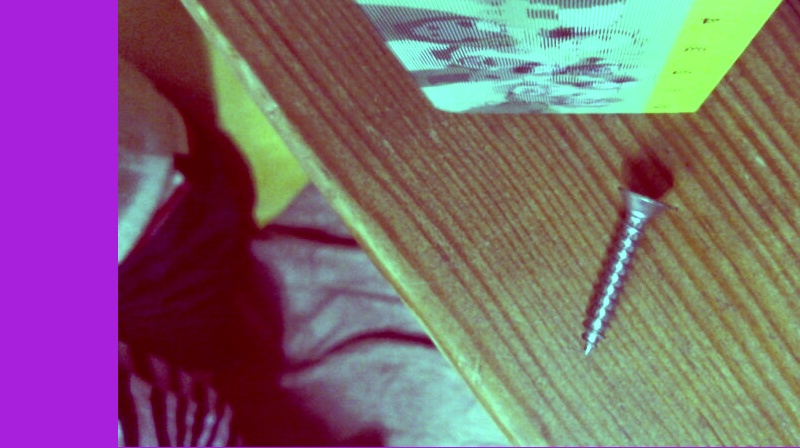S001: (573, 184, 677, 357)
